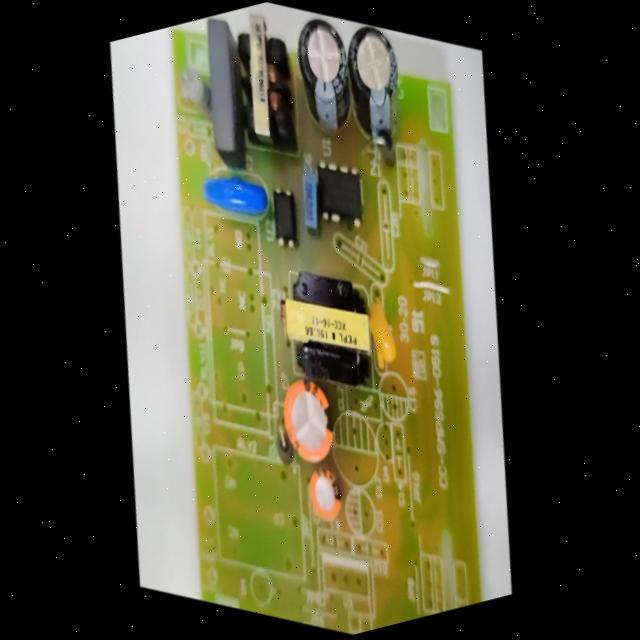Cap1: (261, 356, 355, 482)
Cap2: (293, 452, 356, 535)
Cap3: (269, 0, 378, 155)
Cap4: (321, 6, 428, 166)
MOSFET: (300, 140, 382, 247)
Mov: (188, 145, 282, 242)
Resistor: (169, 53, 220, 121)
Transformer: (259, 238, 396, 411), (209, 0, 321, 167)
